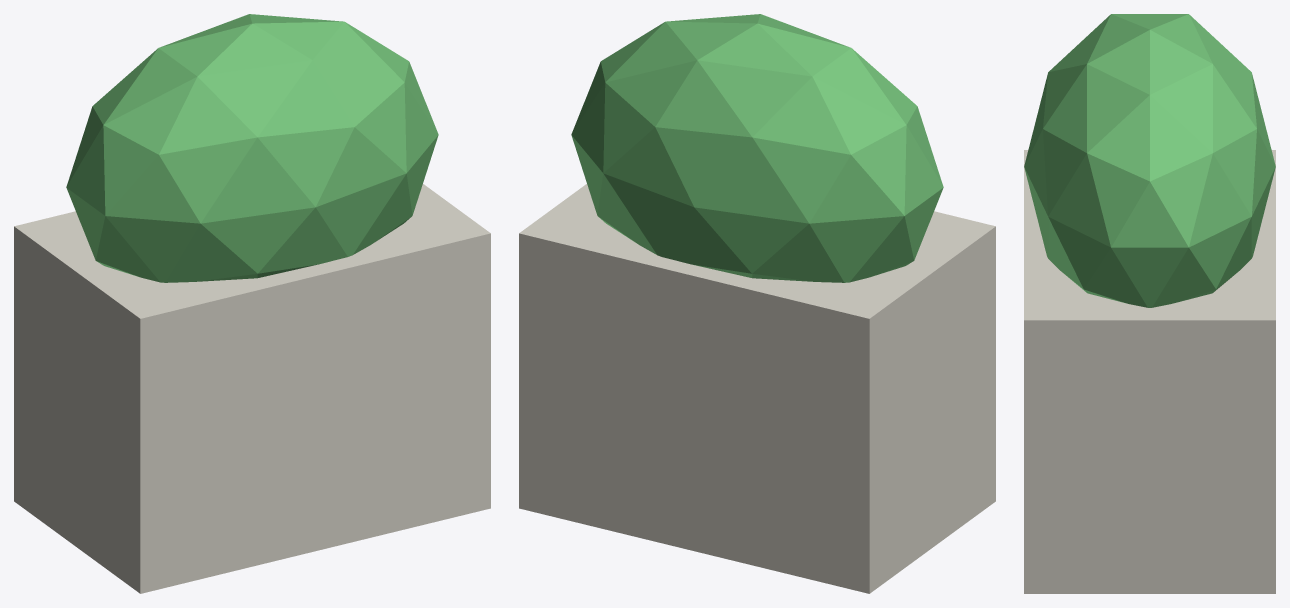
File: sm_product_mountain_herbs.glb
The picture shows the model from 3 angles, left to right: view 1: azimuth 30°, elevation 25°; view 2: azimuth 150°, elevation 25°; view 3: azimuth 270°, elevation 25°; orthographic projection.
Visible parts, largest first — view 1: mountain_herbs_0, mountain_herbs_1; view 2: mountain_herbs_0, mountain_herbs_1; view 3: mountain_herbs_0, mountain_herbs_1.
Boxes of the visible parts, x1,y1,x2,y2 form: mountain_herbs_0: (14, 184, 490, 593); mountain_herbs_1: (66, 14, 438, 282); mountain_herbs_0: (519, 184, 995, 593); mountain_herbs_1: (571, 14, 943, 282); mountain_herbs_0: (1024, 150, 1275, 593); mountain_herbs_1: (1024, 14, 1275, 307).
Size of what is drawn, in the model's own units: 0.16 by 0.21 by 0.1.
